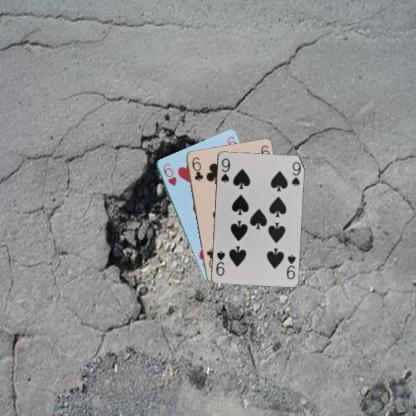6c: (188, 154, 204, 182)
6h: (160, 161, 178, 187)
9s: (219, 155, 231, 184), (284, 251, 296, 280)
